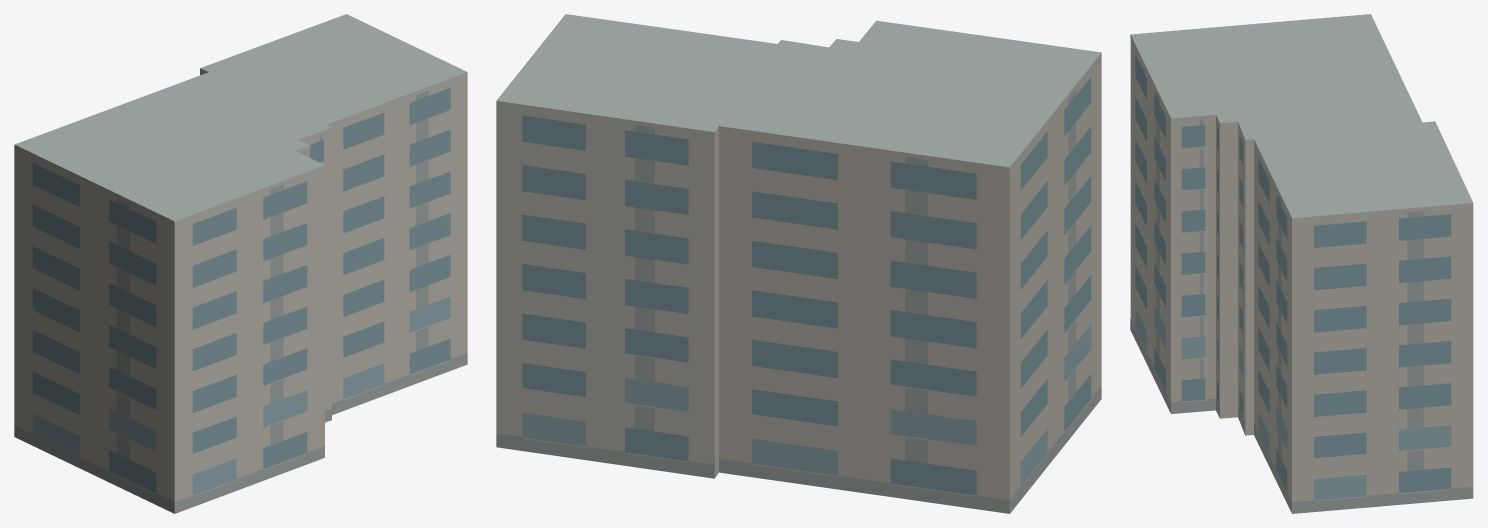
The model's file is survey-upis-32749507.glb.
3 renders of one model, left to right at view 1: azimuth 30°, elevation 25°; view 2: azimuth 150°, elevation 25°; view 3: azimuth 270°, elevation 25°, orthographic. The views are drawn at different scales.
Visible parts, largest first — view 1: survey-upis-32749507.tmp; view 2: survey-upis-32749507.tmp; view 3: survey-upis-32749507.tmp.
Part boxes in pixels (x1,y1,x2,y2): survey-upis-32749507.tmp: (14, 14, 467, 513); survey-upis-32749507.tmp: (496, 14, 1101, 513); survey-upis-32749507.tmp: (1130, 14, 1473, 513).
Bounding box in the file's own units: 28.31 × 19.1 × 20.08.
